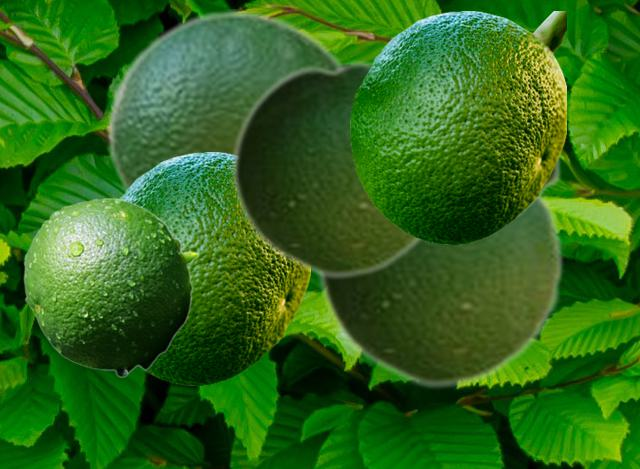dalandan: (350, 11, 565, 243), (316, 194, 564, 390), (117, 152, 309, 384), (106, 9, 344, 193), (230, 57, 423, 280), (23, 197, 198, 377)
